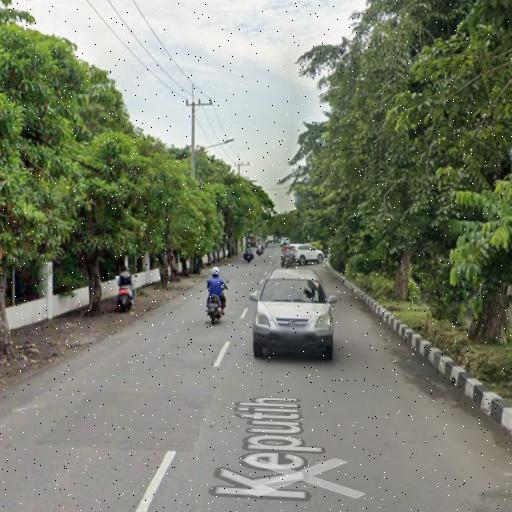Helmet: (212, 267, 220, 276)
Motor: (207, 295, 221, 324), (118, 288, 132, 312), (282, 256, 294, 268), (243, 251, 255, 263), (257, 246, 264, 256)
